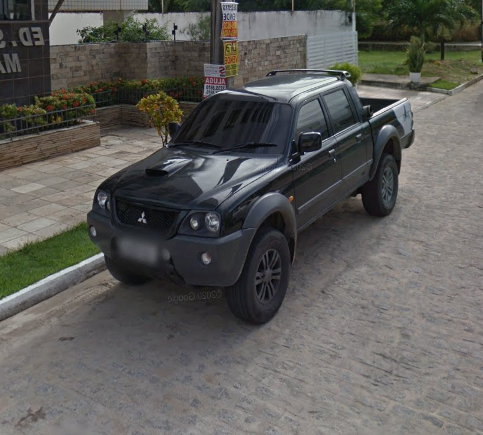car: (86, 67, 417, 327)
